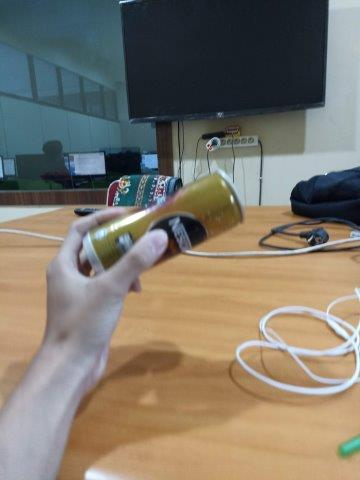kaleng: (82, 169, 246, 278)
